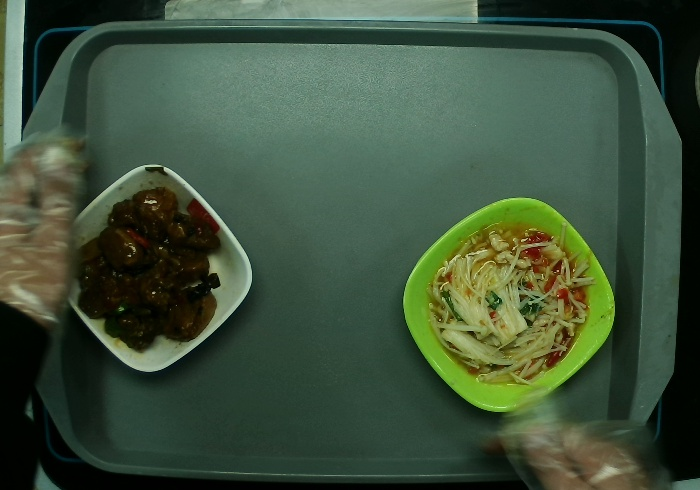SHKJ-Bai_Se_Xiao_Fang_Die: (54, 165, 258, 373)
SHKJ-Lv_Se_Cai_Die: (400, 193, 618, 413)
